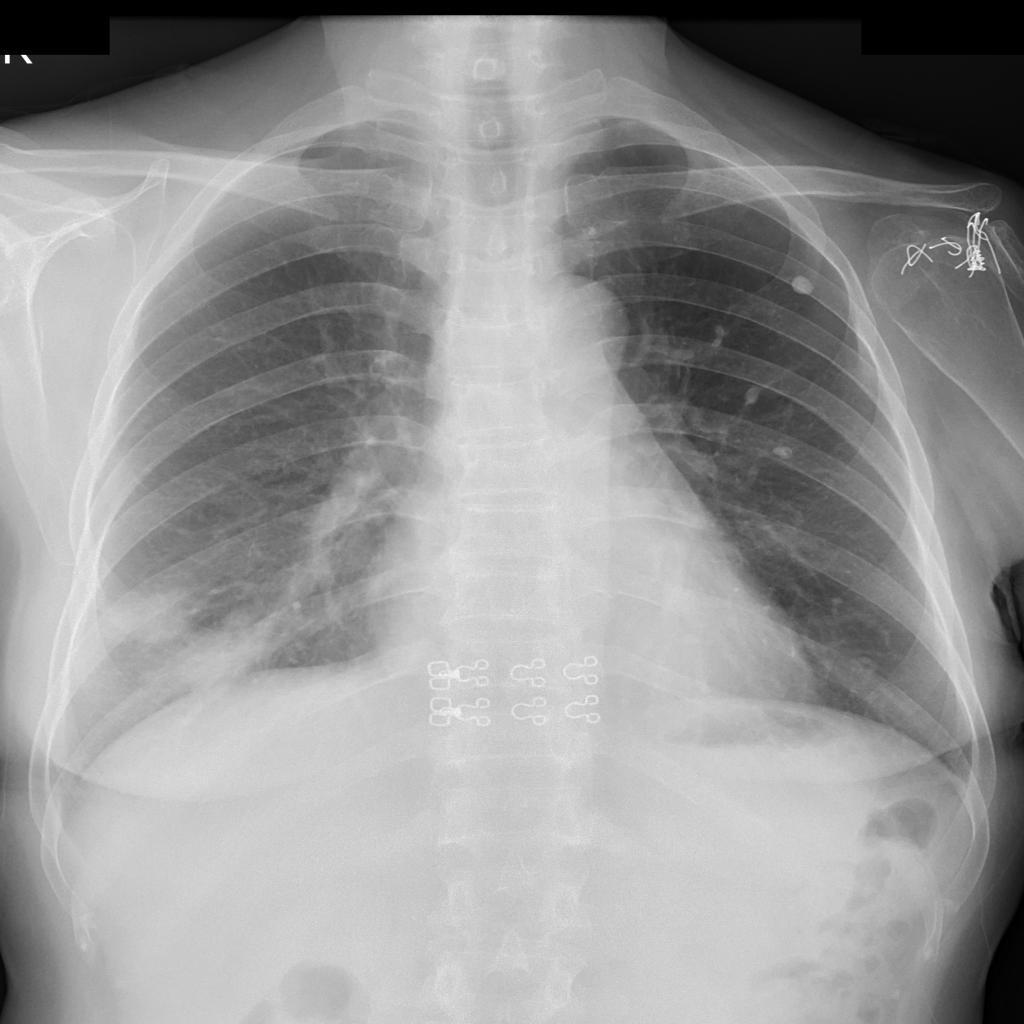Nodule: (790, 274, 814, 296)
